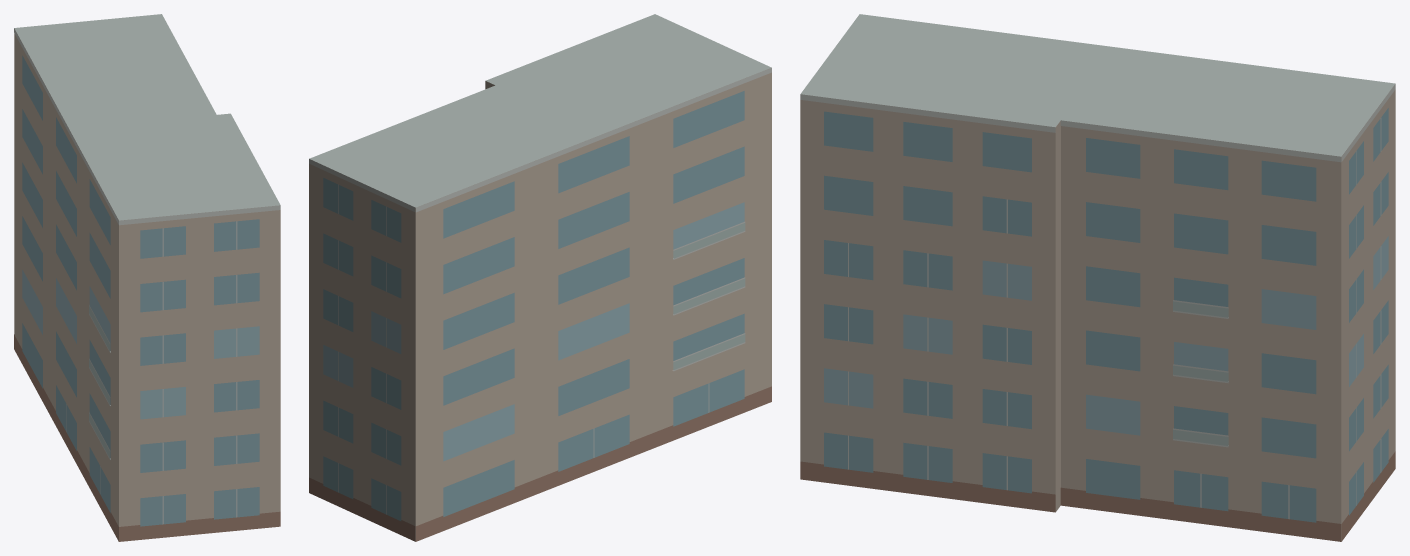
The model's file is survey-upis-32538908.glb.
3 views of the same model, side by side, from view 1: azimuth 30°, elevation 25°; view 2: azimuth 150°, elevation 25°; view 3: azimuth 270°, elevation 25° (orthographic). The views are drawn at different scales.
Parts seen in each view (by area): view 1: survey-upis-32538908.tmp; view 2: survey-upis-32538908.tmp; view 3: survey-upis-32538908.tmp.
Boxes of the visible parts, x1,y1,x2,y2 form: survey-upis-32538908.tmp: (14, 14, 280, 541); survey-upis-32538908.tmp: (309, 14, 771, 541); survey-upis-32538908.tmp: (800, 14, 1395, 541).
Size of the model in its own units: 13.28 by 16.7 by 23.4.
